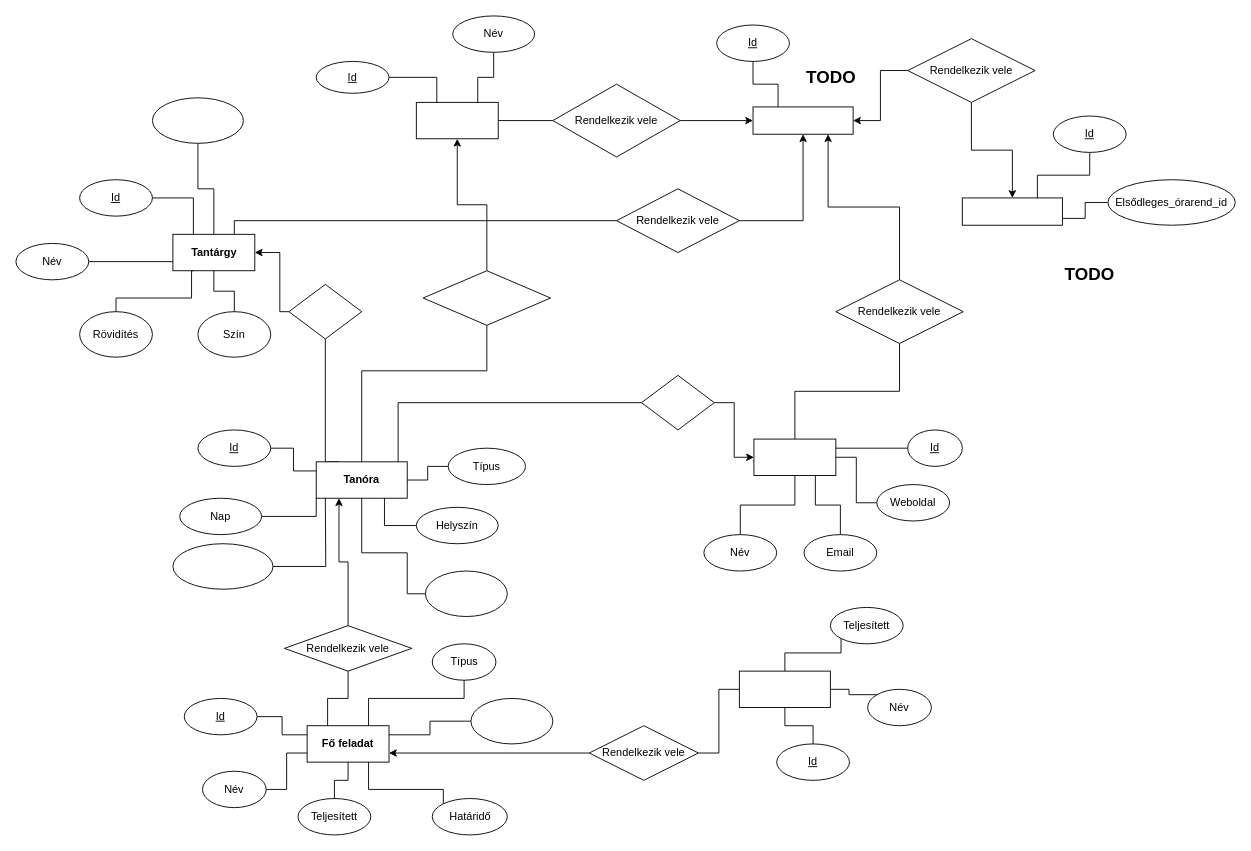
Image size: 1251x851. Some labels were removed from this diagram. Each missing label, with the centre of its shape:
Al feladat: the point at 784,689
Benne van: the point at 486,297
Felhasználó: the point at 802,120
Feljegyzés: the point at 511,721
Időpont_kedzet: the point at 222,566
Időpont_vég: the point at 466,593
Követelmények: the point at 197,120
Preferencia: the point at 1011,211
Tanár: the point at 794,456
Tartja: the point at 677,402
Tartják: the point at 325,311
Órarend: the point at 456,120
